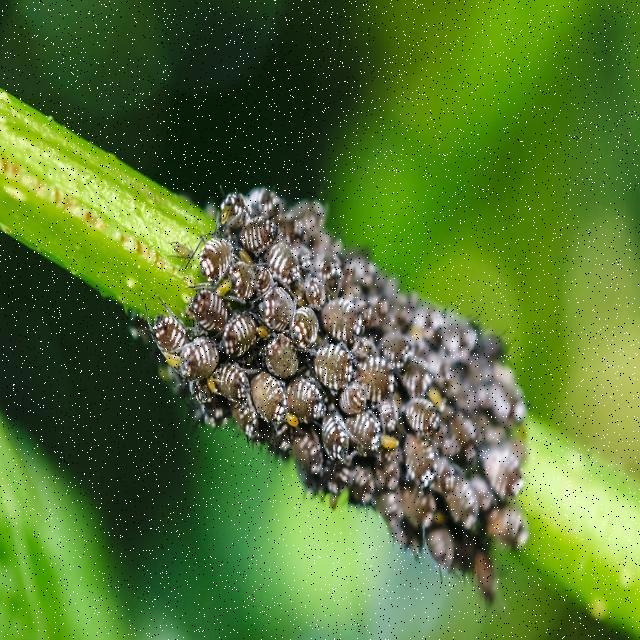Aphids: (249, 364, 292, 443), (198, 227, 240, 292)
